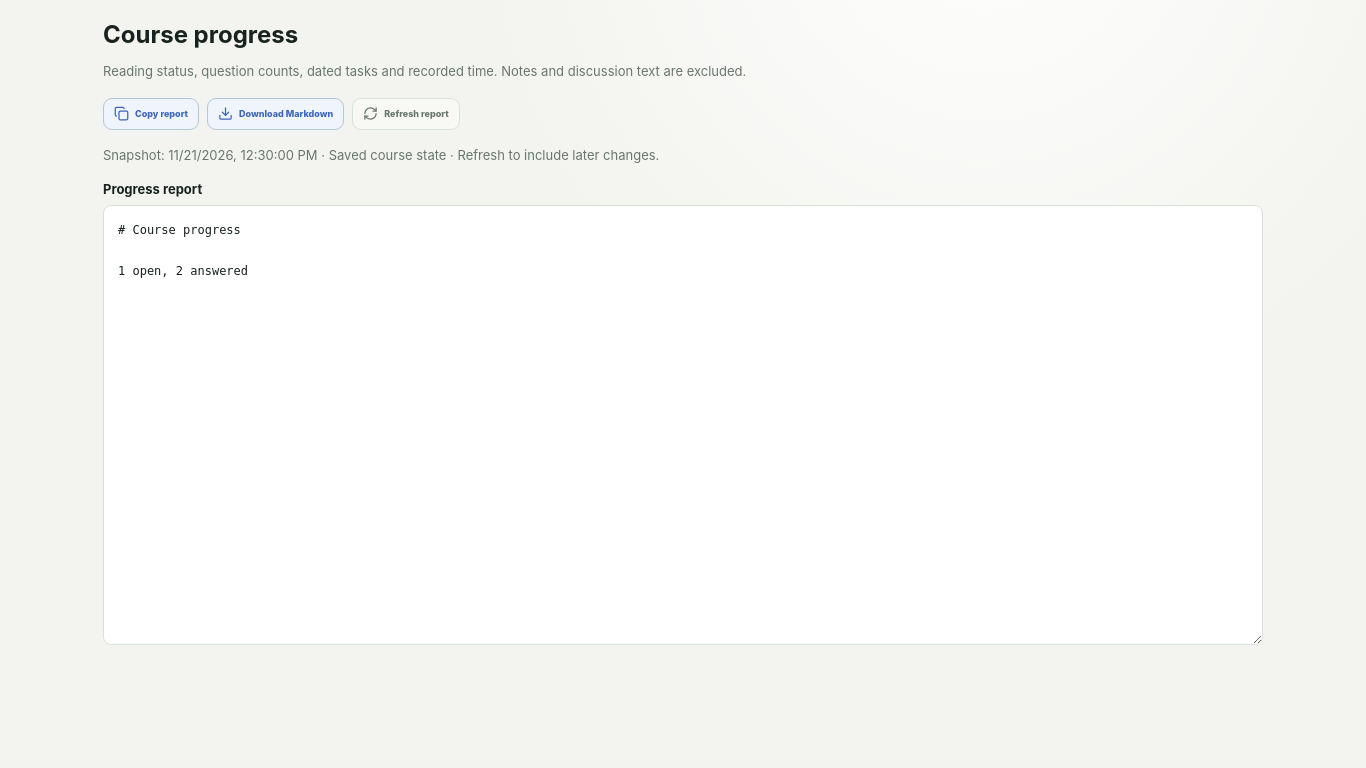
Test: copies the displayed snapshot and refreshes it only on request
The image size is (1366, 768).
Later steps or results of the test are not shown.
Click the button "Copy report" at (151, 114), box x1=103 y1=98 x2=199 y2=130
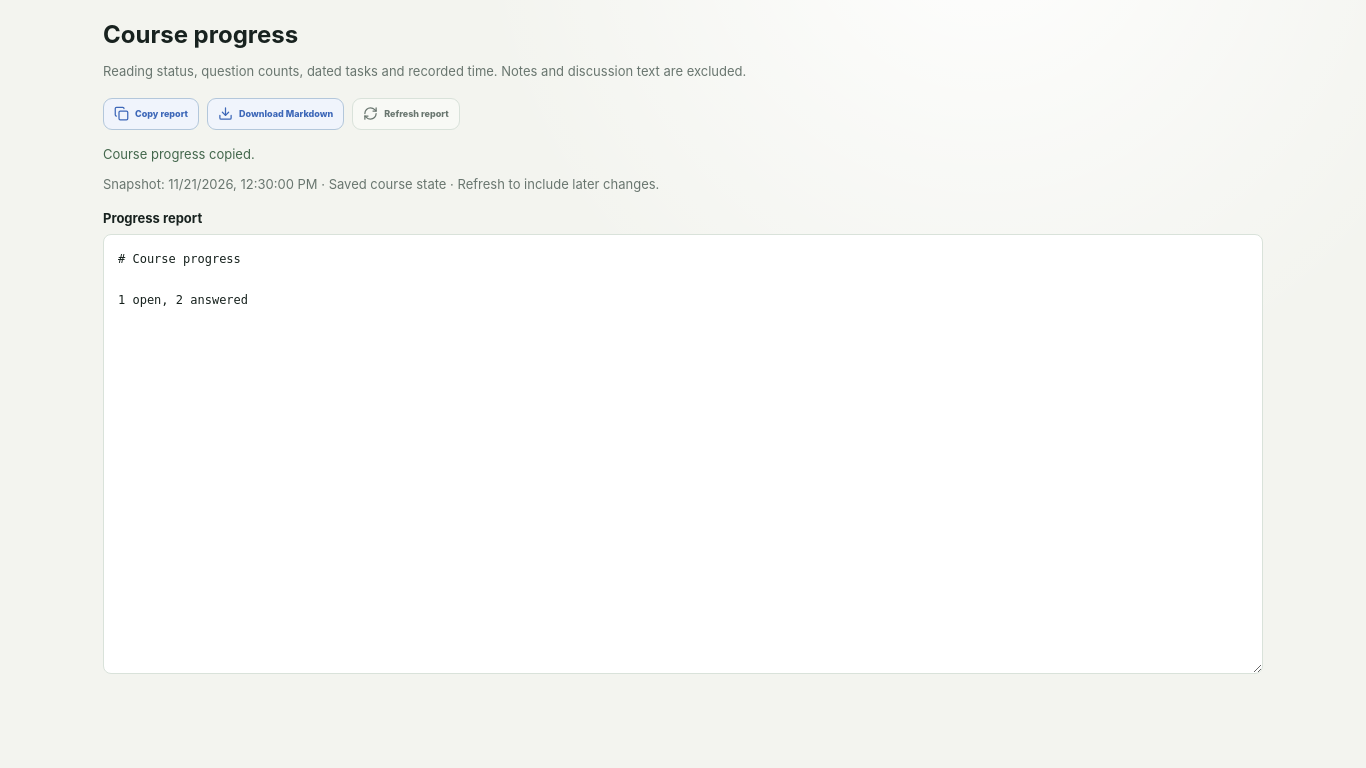
Expected: the text "Course progress copied." is shown, x1=103 y1=146 x2=255 y2=162
